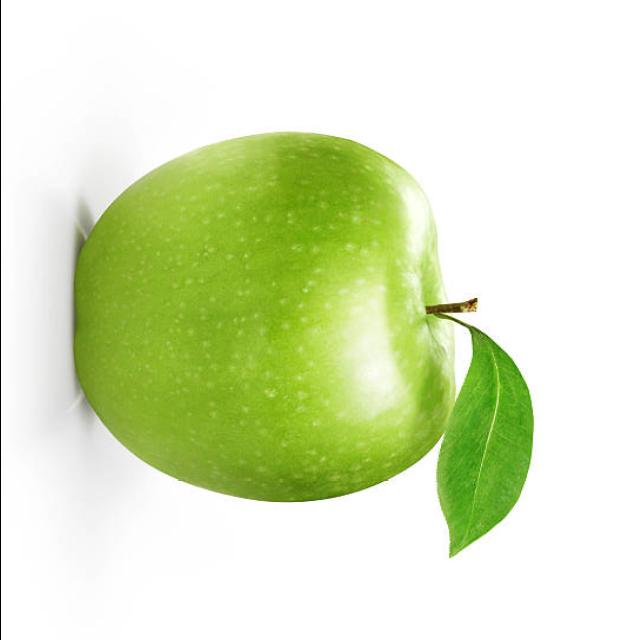green apple: (68, 128, 460, 507)
